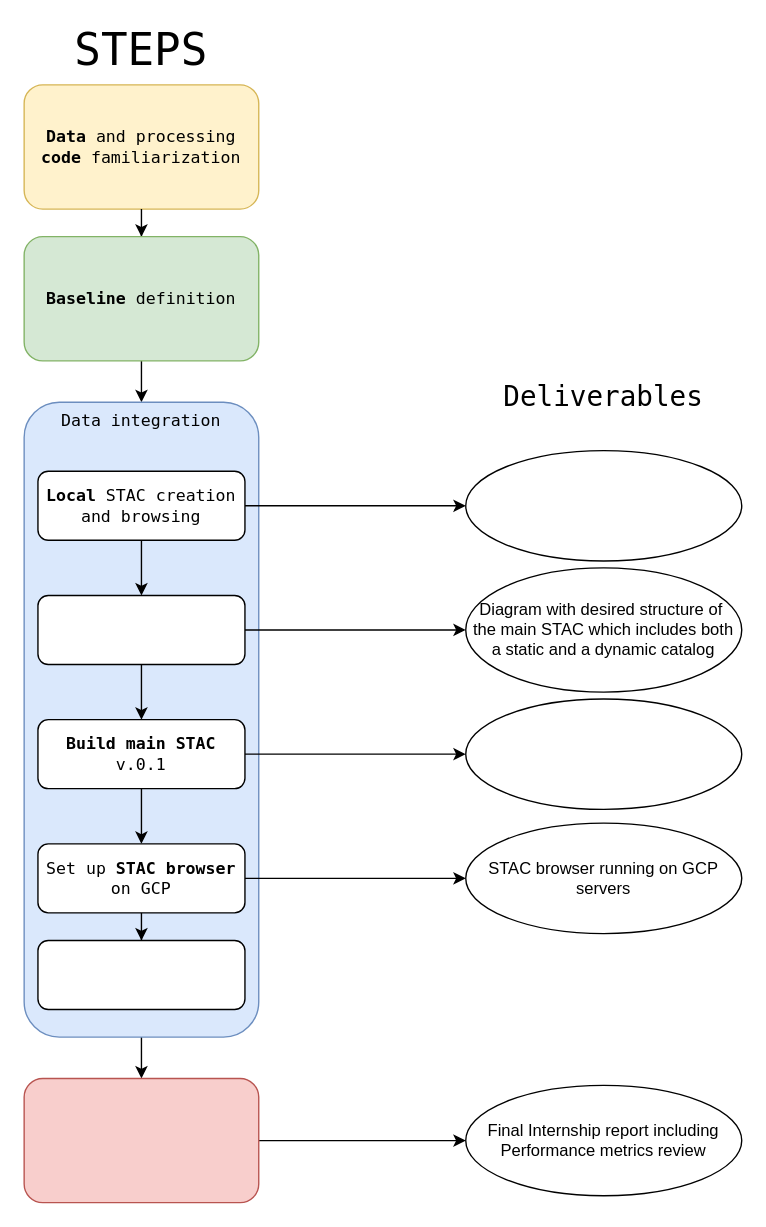
The diagram is 766 pixels wide and 1227 high, and some of its shapes have lost their labels. Here are the shapes that lost their labels. From the top down, the centre of each, then its label:
At (x=603, y=505): "GitLab repo with code to create catalog and add assets from a local directory".
At (x=141, y=629): "Organization of main STAC structure & extensions per asset".
At (x=603, y=753): "GitLab repo with code to create catalog using links to GS.".
At (x=141, y=974): "Automate processes via CI pipeline".
At (x=141, y=1140): "Performance assessment".
